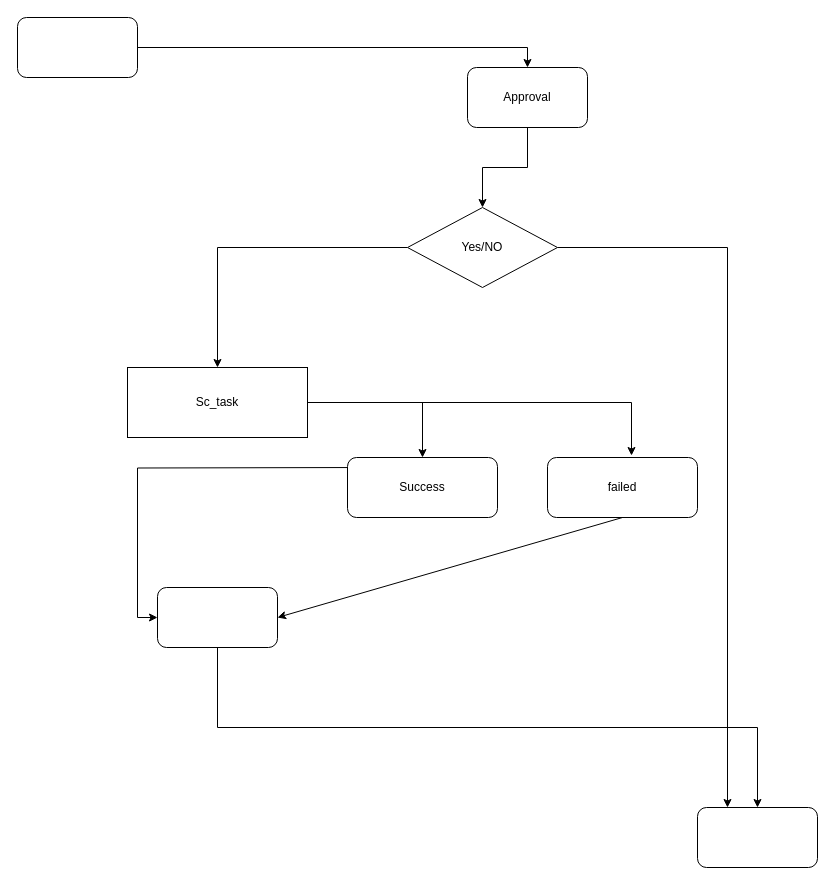
This 835x885 diagram has some shape labels left out. The shapes that lost their labels are listed below. From the top down, each one's box as (x1, y1, x2, y2) in pixels, then its label:
(16, 16, 138, 78): Start
(156, 586, 278, 648): Notification
(696, 806, 818, 868): End
